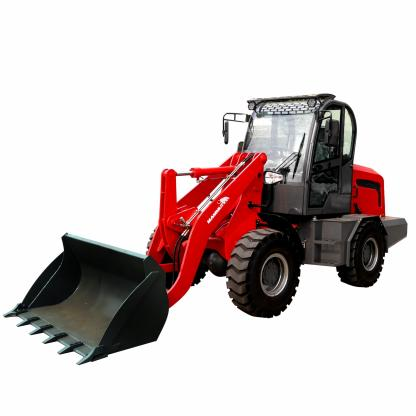bull_dozer/loader/grader: (6, 80, 407, 371)
